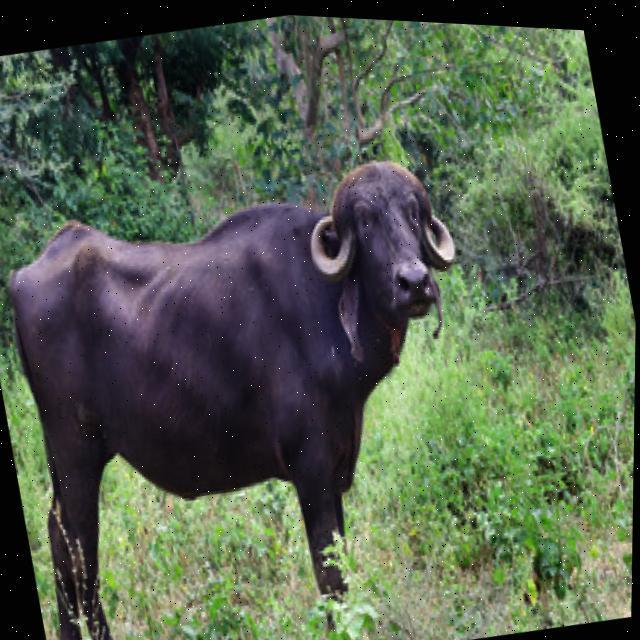Buffalo: (0, 119, 533, 640)
